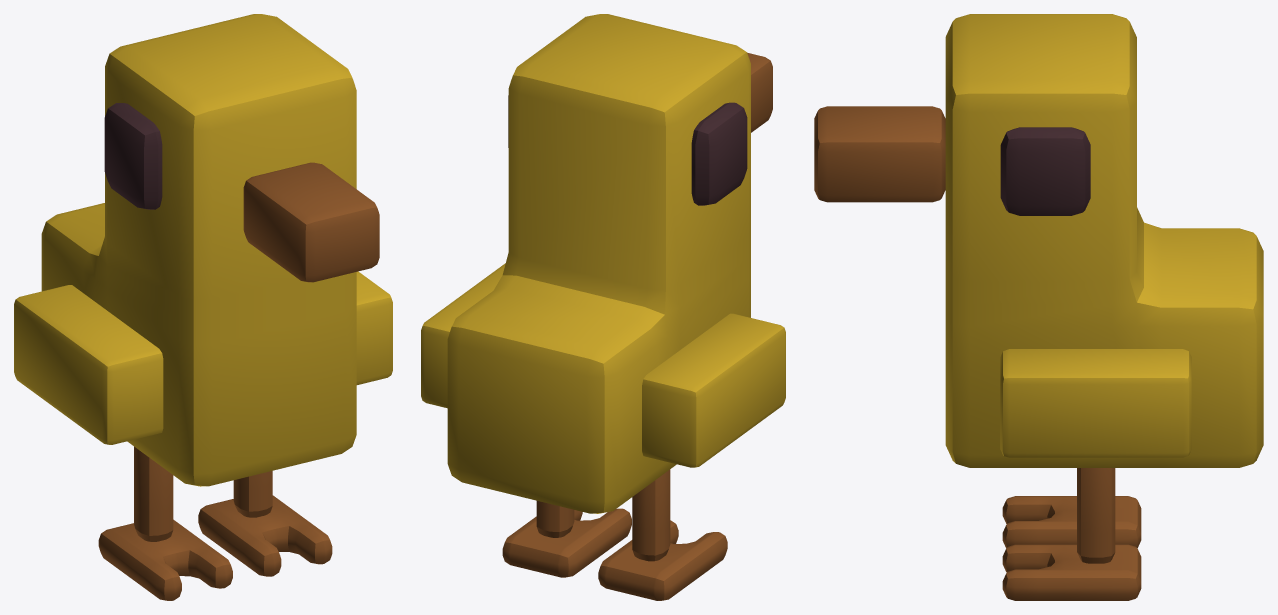
Rendered from chick.glb.
3 renders of one model, left to right at view 1: azimuth 30°, elevation 25°; view 2: azimuth 150°, elevation 25°; view 3: azimuth 270°, elevation 25°, orthographic. The views are drawn at different scales.
Visible parts, largest first — view 1: Chicken; view 2: Chicken; view 3: Chicken.
Boxes of the visible parts, x1,y1,x2,y2 form: Chicken: (14,14,392,600); Chicken: (421,14,785,600); Chicken: (814,14,1263,600).
Bounding box in the file's own units: 0.6126 × 1.04 × 0.8227.
Materials: 1 (1 with a texture image).
